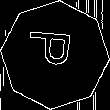P_E: (28, 34, 82, 76)
